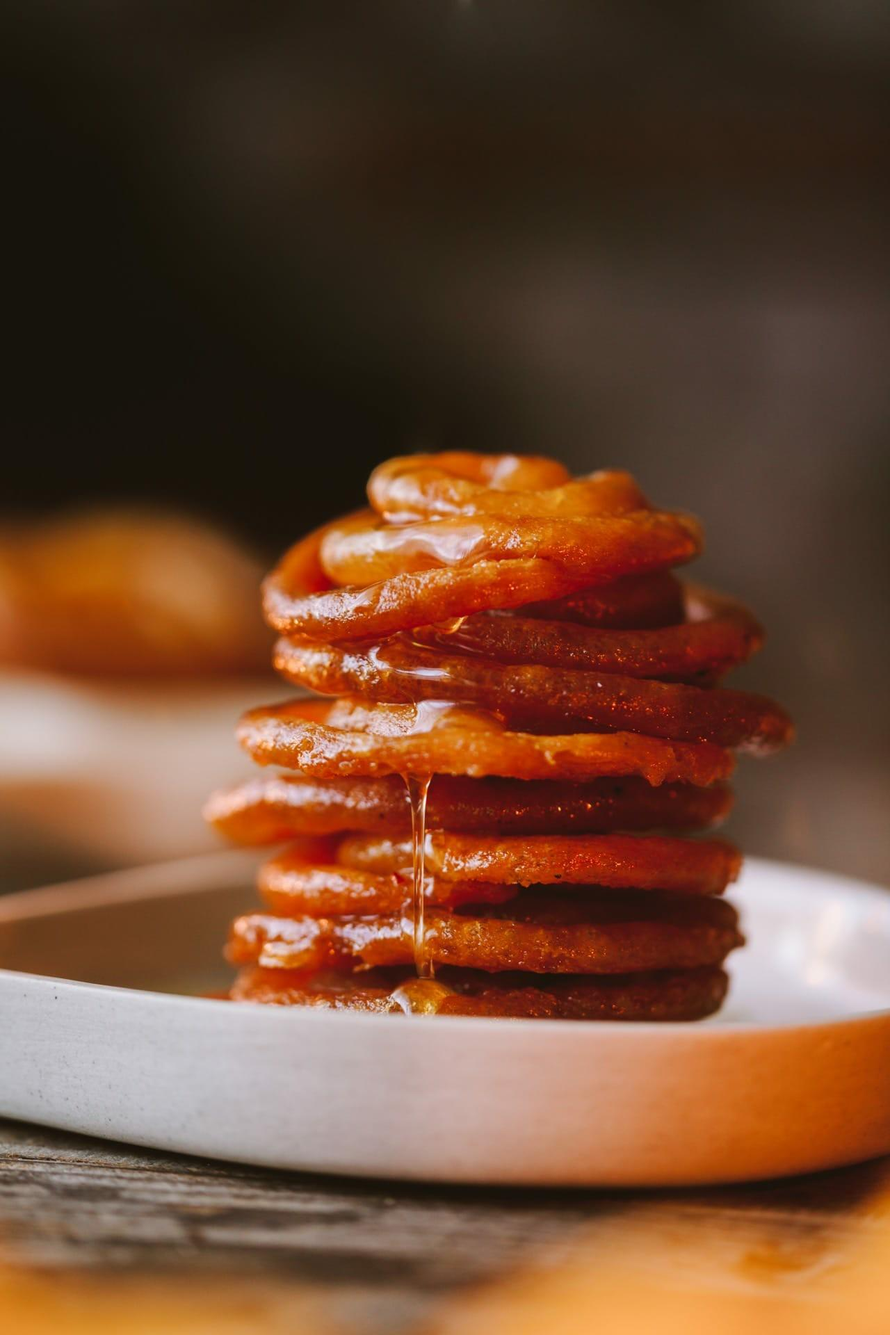Jalebi: (212, 434, 799, 1037)
